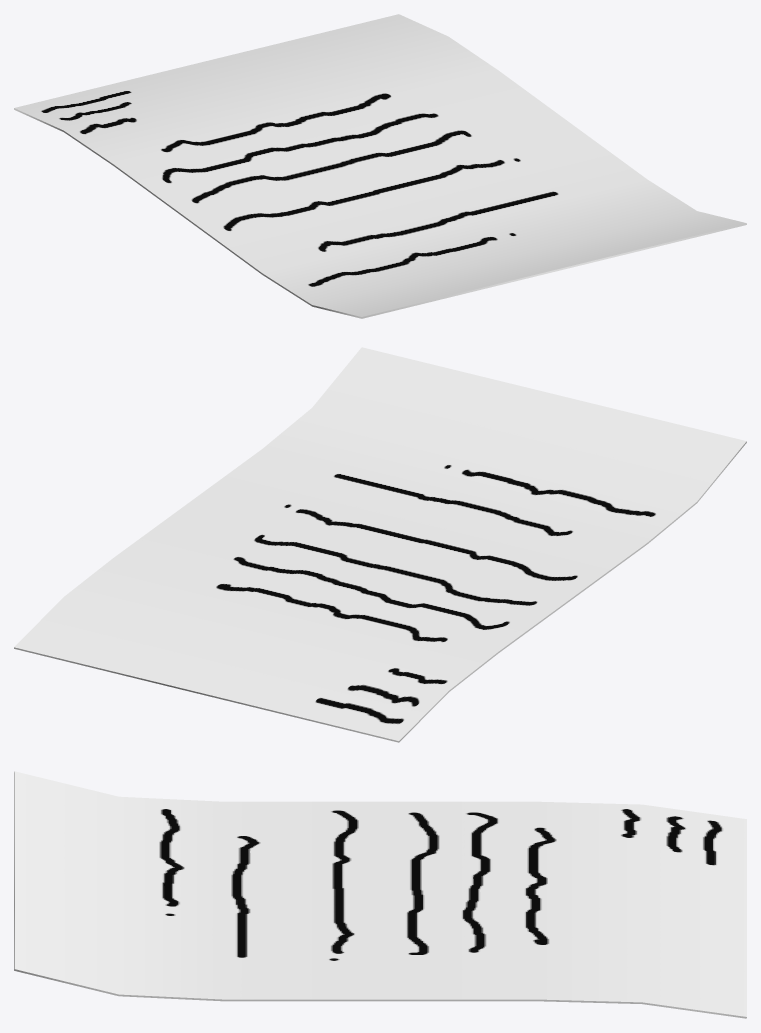
Rendered from notes.fbx.
The picture shows the model from 3 angles, top to bottom: view 1: azimuth 30°, elevation 25°; view 2: azimuth 150°, elevation 25°; view 3: azimuth 270°, elevation 25°; orthographic projection. The views are drawn at different scales.
Visible parts, largest first — view 1: Note; view 2: Note; view 3: Note.
Boxes of the visible parts, x1=… form: Note: x1=14, y1=14, x2=746, y2=318; Note: x1=14, y1=347, x2=746, y2=742; Note: x1=14, y1=771, x2=746, y2=1018.
Bounding box in the file's own units: 0.1673 × 0.0196 × 0.2619.
